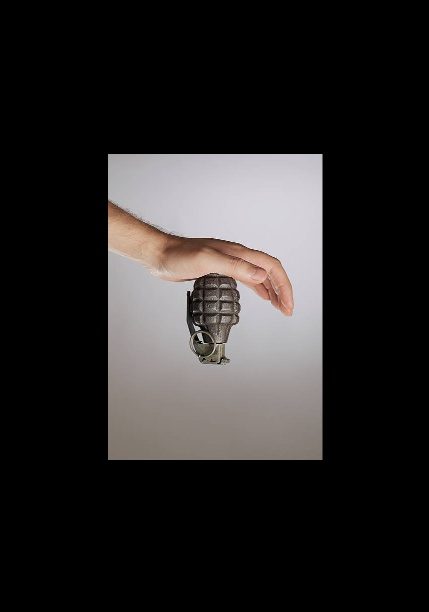e1: (183, 271, 243, 367)
